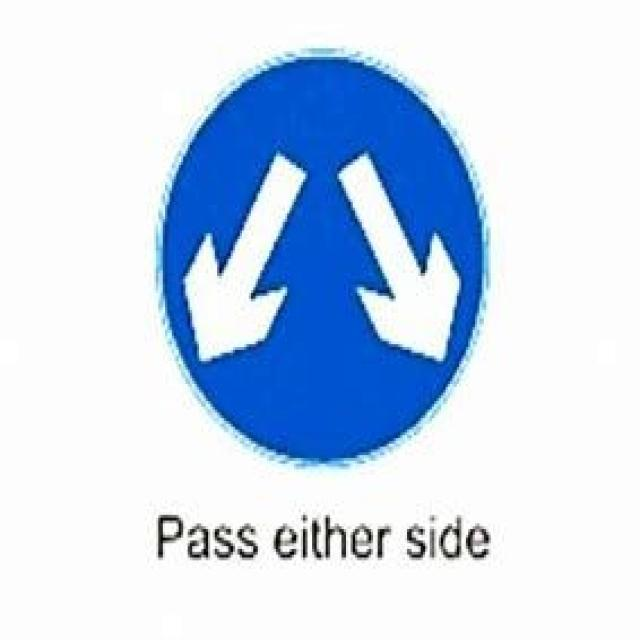pass either side: (154, 48, 492, 465)
